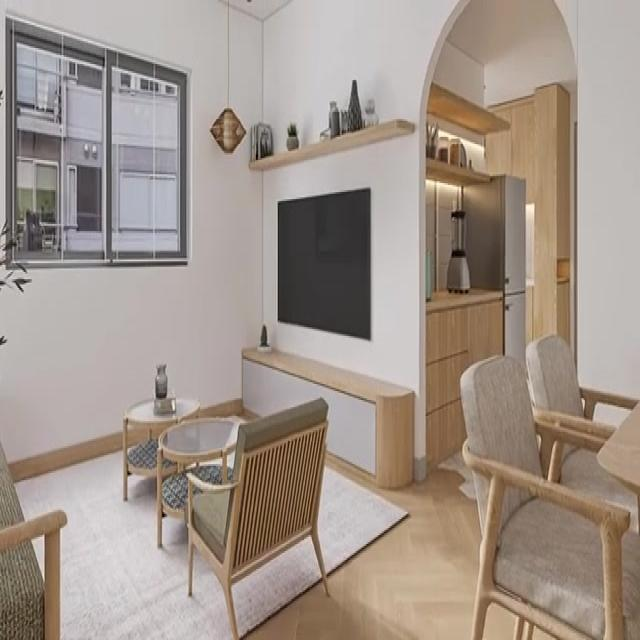obstacle: (459, 352, 639, 638), (184, 395, 330, 638), (461, 172, 526, 366)
